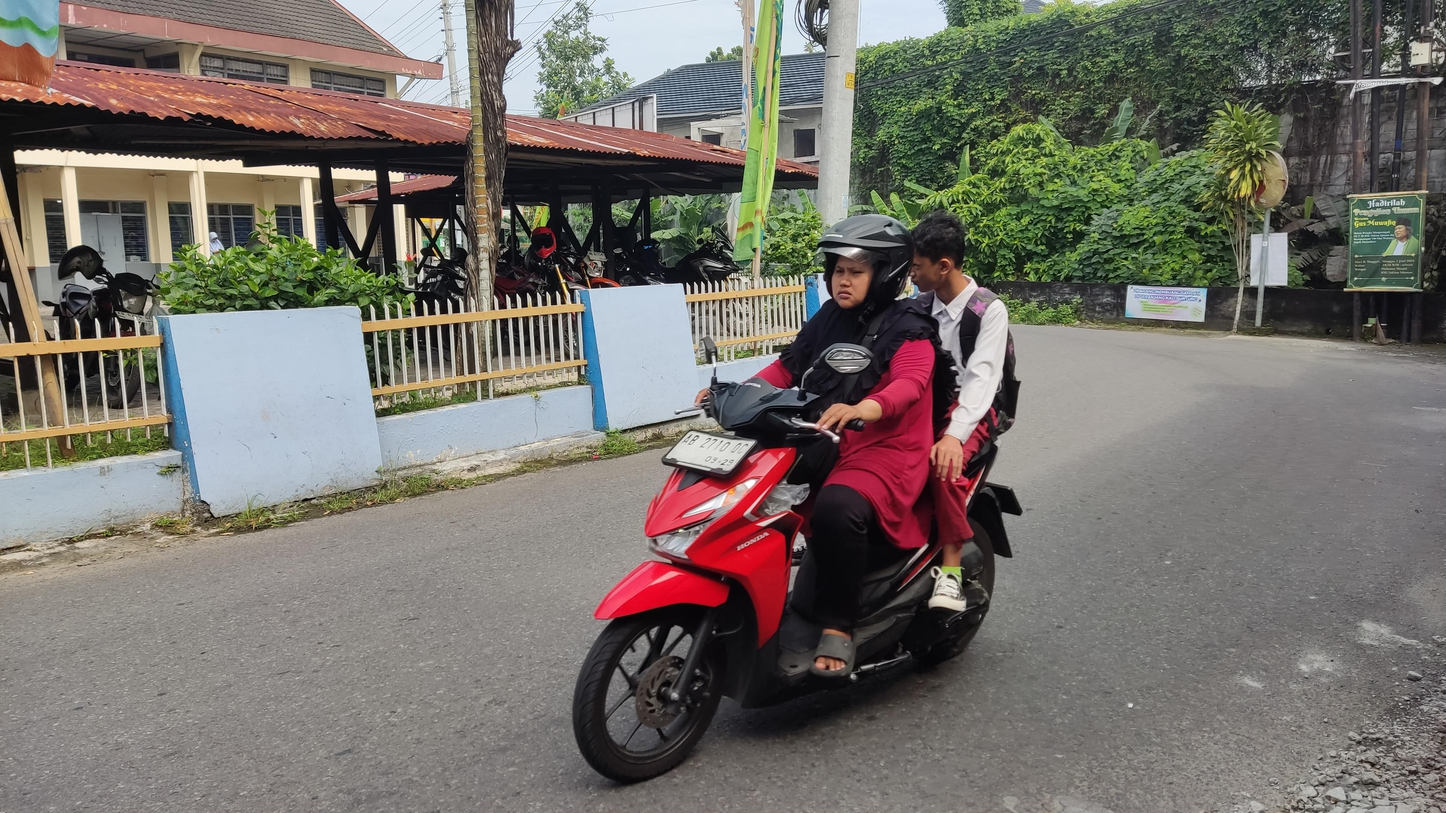helm: (814, 213, 916, 310)
nohelm: (907, 213, 968, 294)
riding: (570, 212, 1026, 784)
